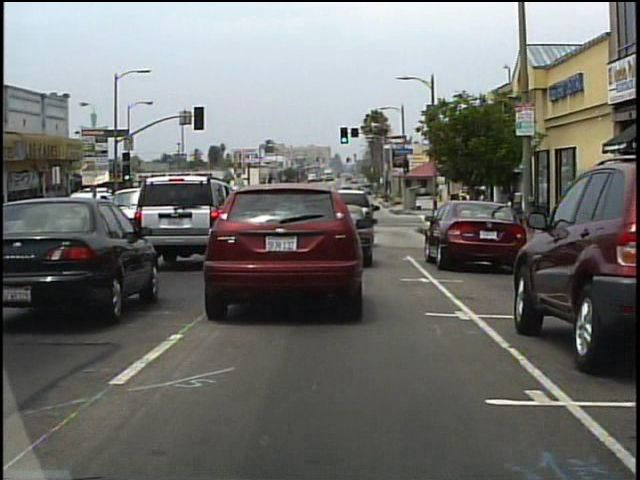person: (477, 192, 494, 234), (456, 193, 469, 237), (469, 194, 482, 237)
